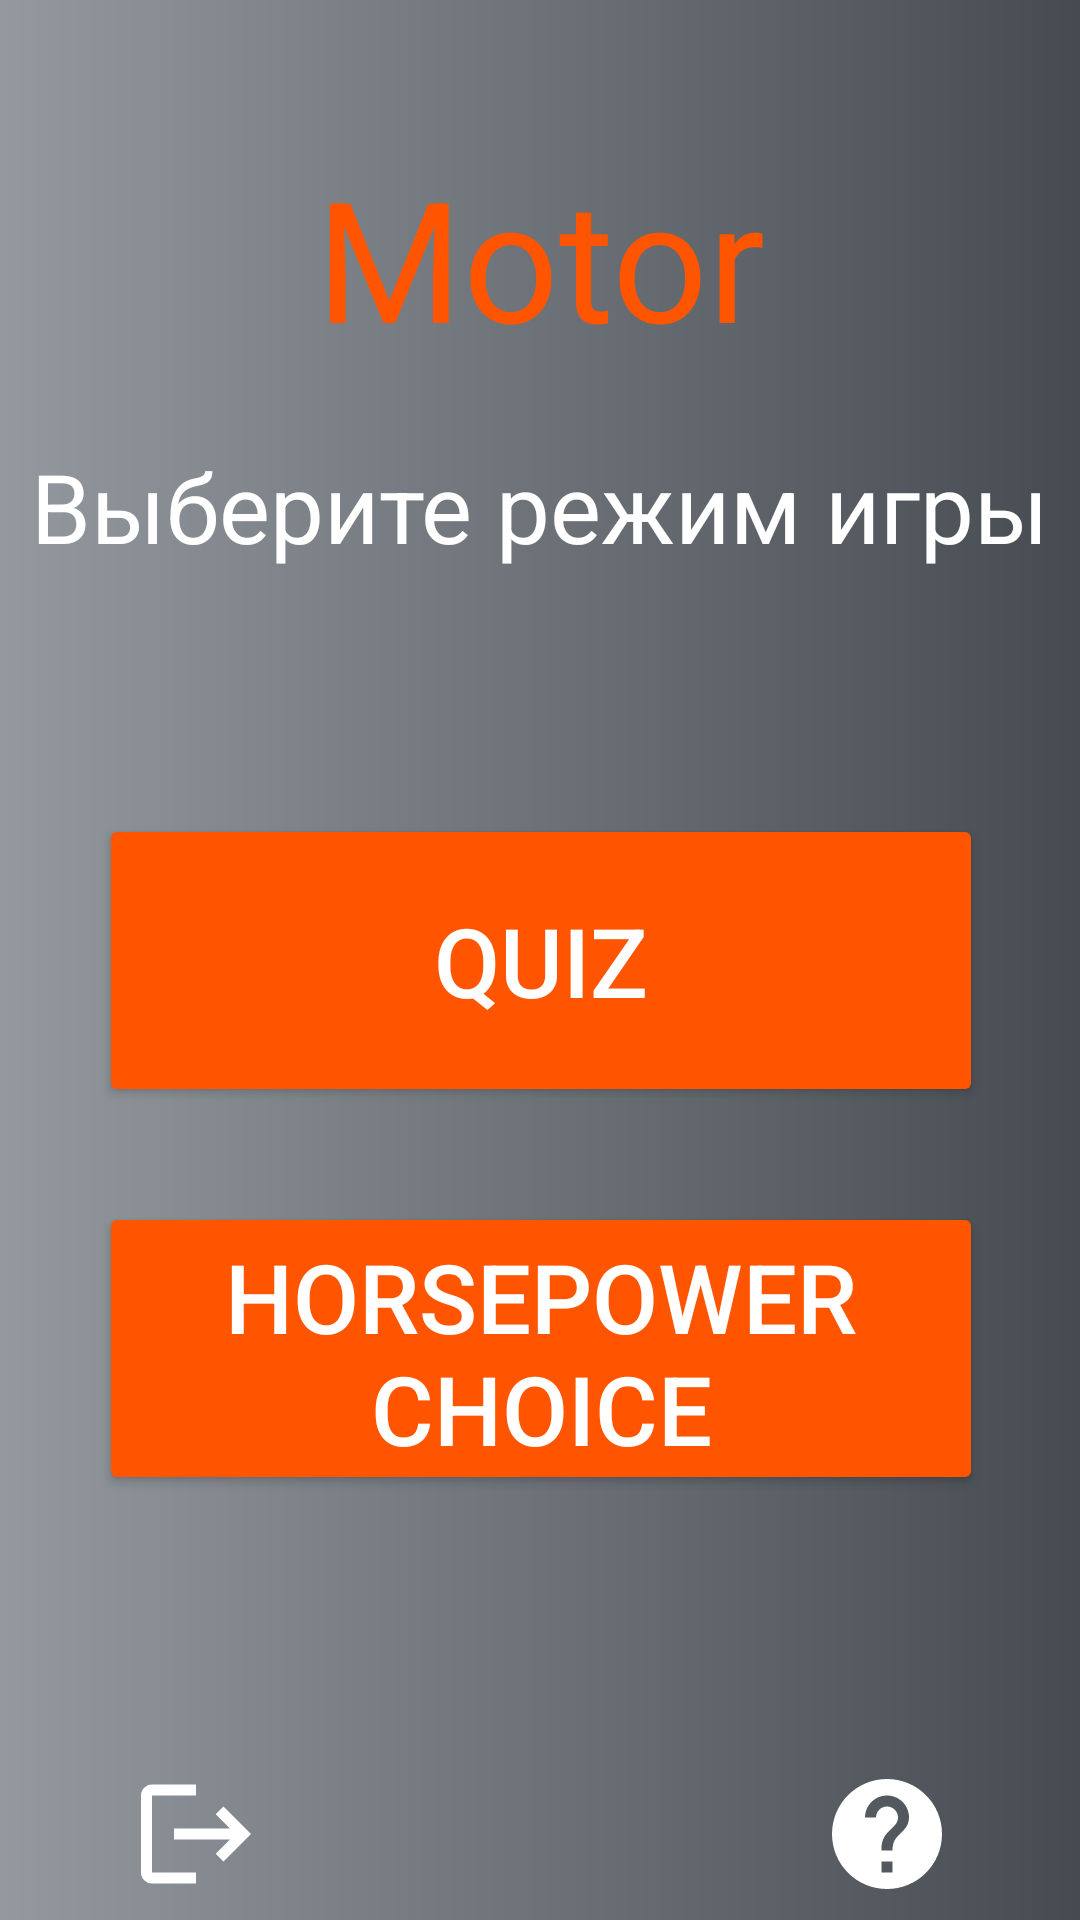

Where to tap for icons on this 1080px×1920px app screen, as (x=x, y=y):
about: (x=887, y=1834)
